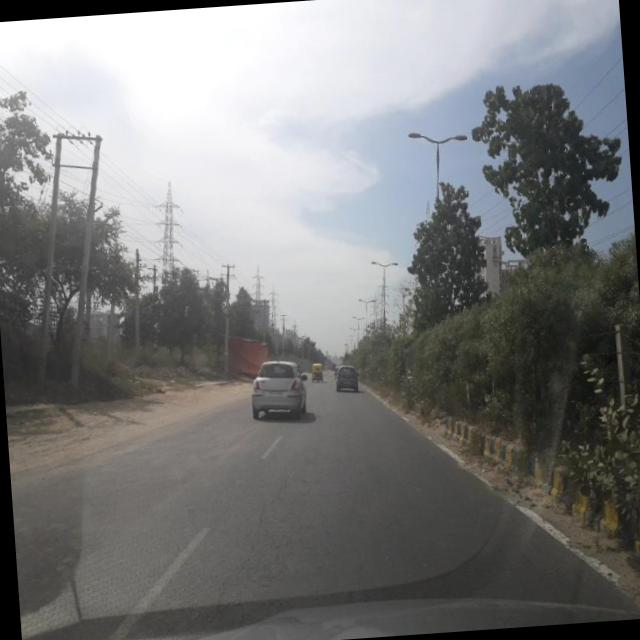crack: (13, 400, 547, 640)
